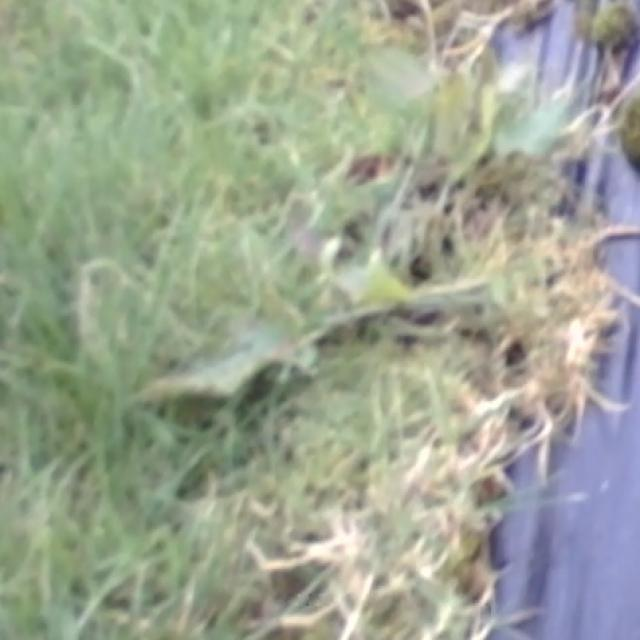organic waste: (308, 5, 614, 245)
